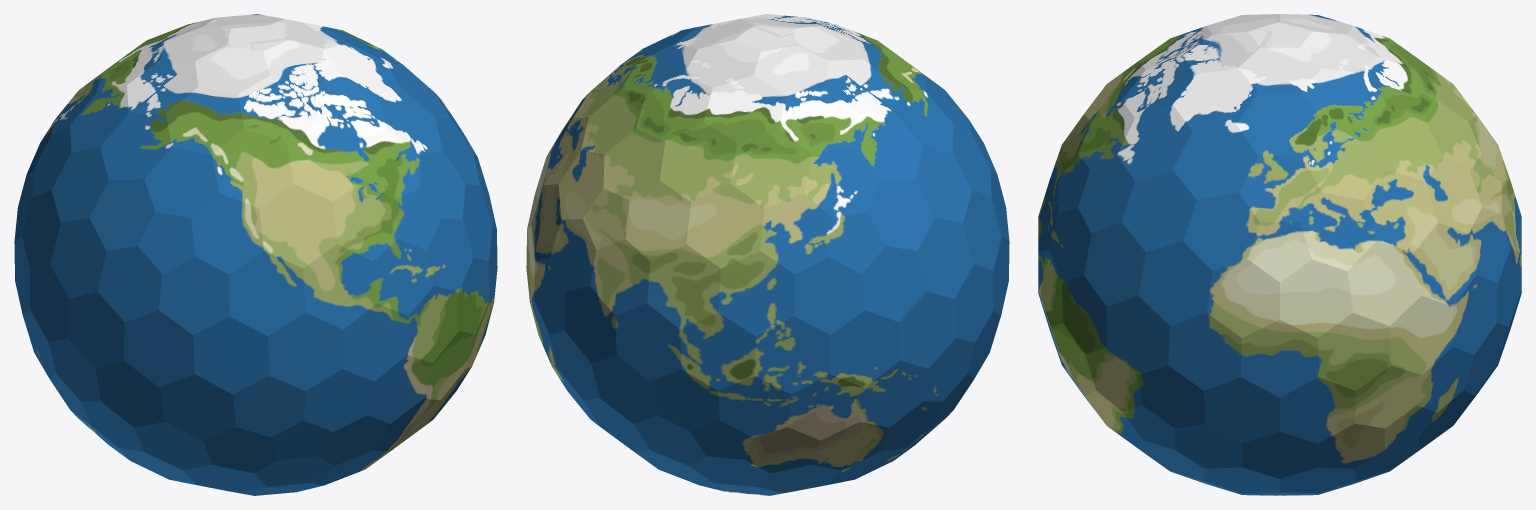
File: earth.glb
The picture shows the model from 3 angles, left to right: view 1: azimuth 30°, elevation 25°; view 2: azimuth 150°, elevation 25°; view 3: azimuth 270°, elevation 25°; orthographic projection.
Visible parts, largest first — view 1: Icosphere.308, Icosphere.216, Icosphere.300, Icosphere.238, Icosphere.236, Icosphere.189, Icosphere.215, Icosphere.194, Icosphere.314, Icosphere.235, Icosphere.299, Icosphere.195 (+62 smaller); view 2: Icosphere.226, Icosphere.208, Icosphere.207, Icosphere.305, Icosphere.186, Icosphere.185, Icosphere.295, Icosphere.227, Icosphere.312, Icosphere.277, Icosphere.294, Icosphere.198 (+62 smaller); view 3: Icosphere.316, Icosphere.243, Icosphere.304, Icosphere.219, Icosphere.292, Icosphere.178, Icosphere.256, Icosphere.222, Icosphere.244, Icosphere.205, Icosphere.220, Icosphere.204 (+59 smaller).
Part boxes in pixels (x1,y1,x2,y2): Icosphere.308: (228,251,305,336); Icosphere.216: (259,184,337,268); Icosphere.300: (212,128,293,208); Icosphere.238: (303,244,376,329); Icosphere.236: (268,312,343,390); Icosphere.189: (193,316,269,394); Icosphere.215: (286,122,364,201); Icosphere.194: (191,193,263,274); Icosphere.314: (124,310,194,387); Icosphere.235: (159,257,229,334); Icosphere.299: (238,75,320,142); Icosphere.195: (165,87,244,154); Icosphere.226: (718,251,795,336); Icosphere.208: (686,184,764,268); Icosphere.207: (730,128,811,208); Icosphere.305: (647,244,720,329); Icosphere.186: (680,312,755,390); Icosphere.185: (754,316,830,394); Icosphere.295: (659,122,737,201); Icosphere.227: (760,193,832,274); Icosphere.312: (829,310,899,387); Icosphere.277: (794,257,864,334); Icosphere.294: (703,75,785,142); Icosphere.198: (779,87,858,154); Icosphere.316: (1240,320,1319,397); Icosphere.243: (1138,241,1212,325); Icosphere.304: (1347,241,1421,325); Icosphere.219: (1173,124,1257,199); Icosphere.292: (1302,124,1386,199); Icosphere.178: (1168,312,1241,390); Icosphere.256: (1318,312,1391,390); Icosphere.222: (1280,259,1353,337); Icosphere.244: (1206,259,1279,337); Icosphere.205: (1363,170,1438,252); Icosphere.220: (1121,170,1196,252); Icosphere.204: (1300,192,1376,270).
Bounding box in the file's own units: 12.74 × 12.74 × 12.74.
Materials: 1 (1 with a texture image).
